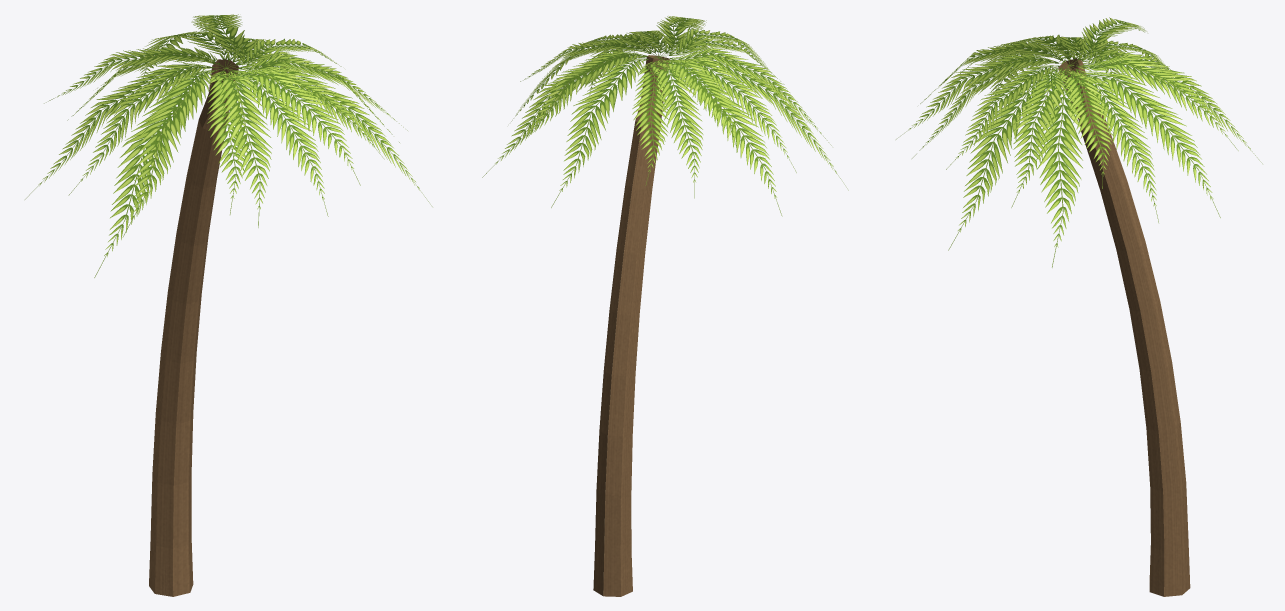
The model's file is palm2_a.glb.
The picture shows the model from 3 angles, left to right: view 1: azimuth 30°, elevation 25°; view 2: azimuth 150°, elevation 25°; view 3: azimuth 270°, elevation 25°; orthographic projection. The views are drawn at different scales.
Parts seen in each view (by area): view 1: palm2_a; view 2: palm2_a; view 3: palm2_a.
Boxes of the visible parts, left/top/right/bottom form: palm2_a: left=25, top=14, right=432, bottom=596; palm2_a: left=482, top=16, right=848, bottom=596; palm2_a: left=896, top=17, right=1262, bottom=596.
Size of the model in its own units: 2.44 by 3.59 by 2.34.
Materials: 2 (2 with a texture image).
